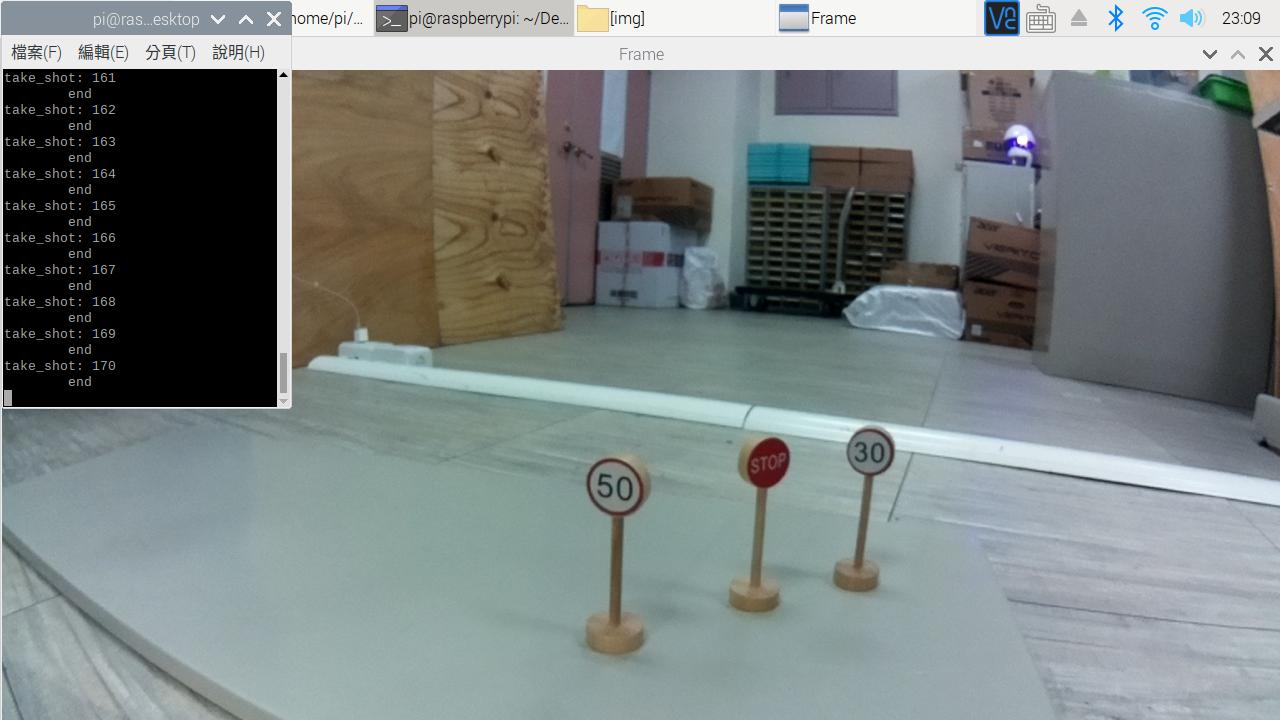Speed30: (842, 420, 904, 488)
Speed50: (578, 447, 663, 521)
Stop: (734, 429, 799, 496)
